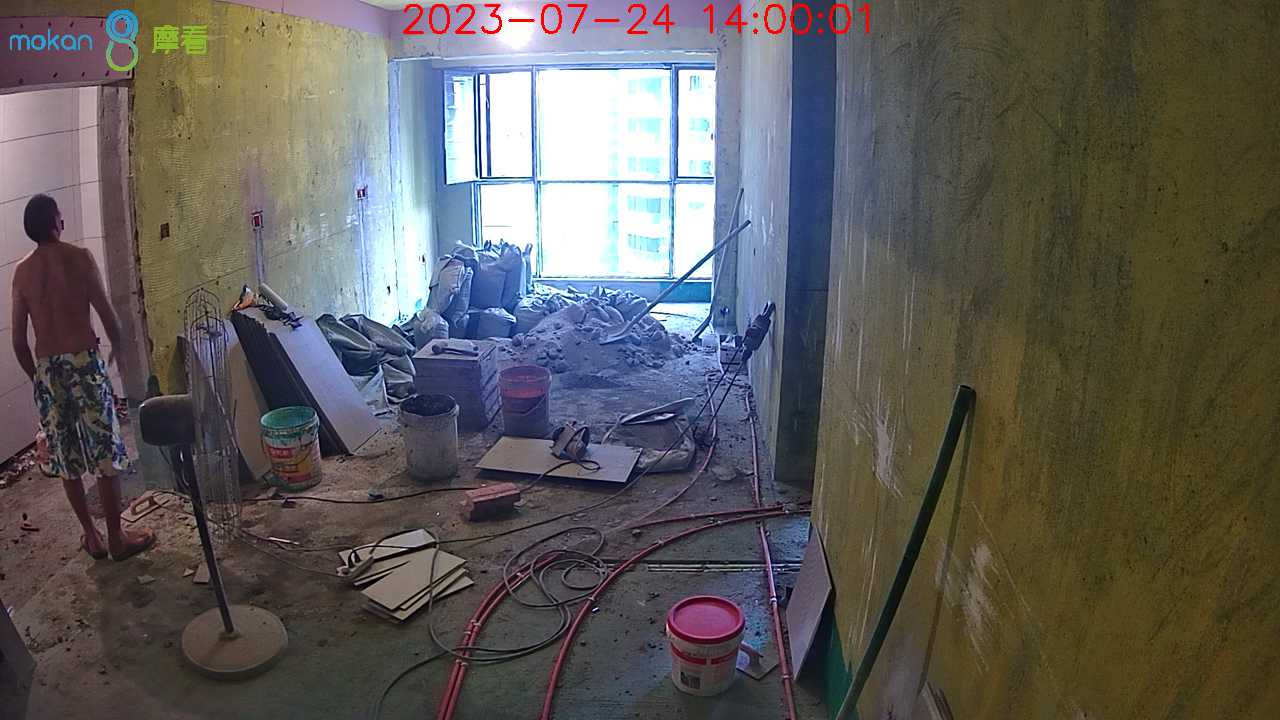people: (11, 194, 159, 560)
window: (436, 68, 718, 283)
